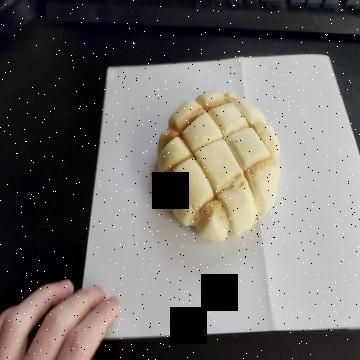melon_bread: (152, 89, 280, 242)
